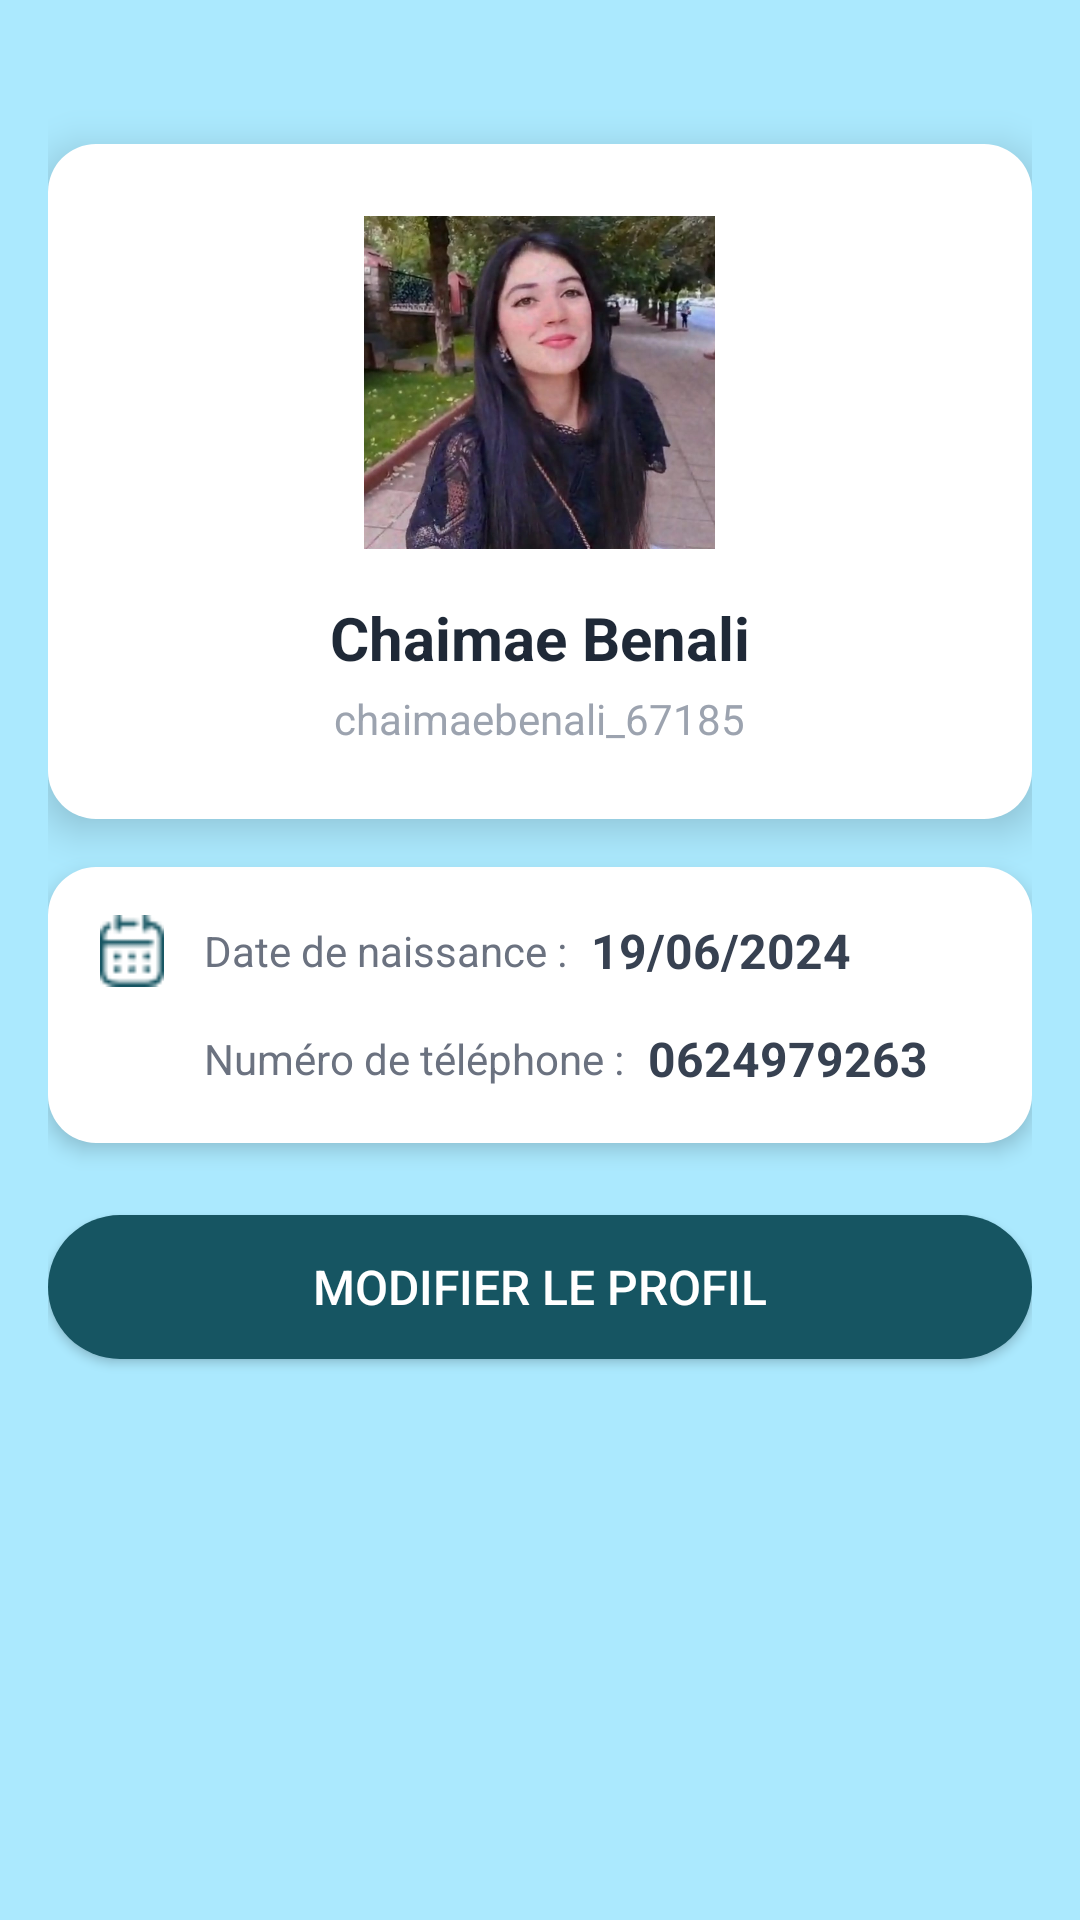

Where to tap for icons on this 1080 x 1920 app screen, as (x=x, y=y):
calendar: (x=132, y=951)
Profile Image: (x=539, y=382)
